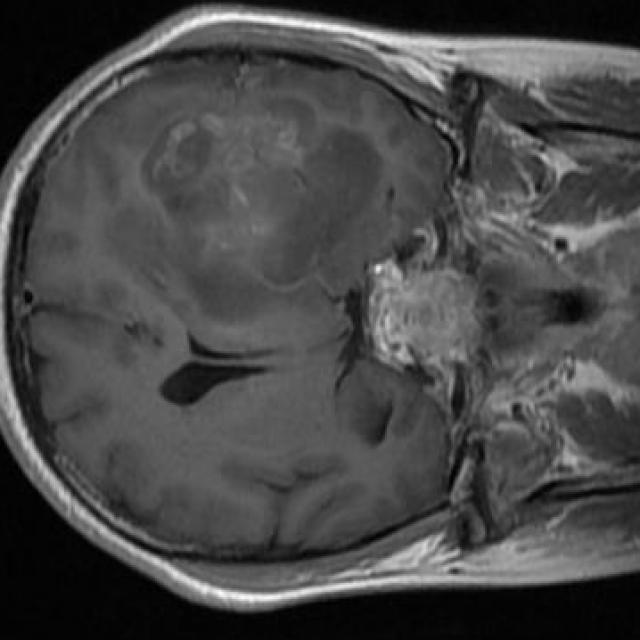glioma: (107, 98, 380, 317)
